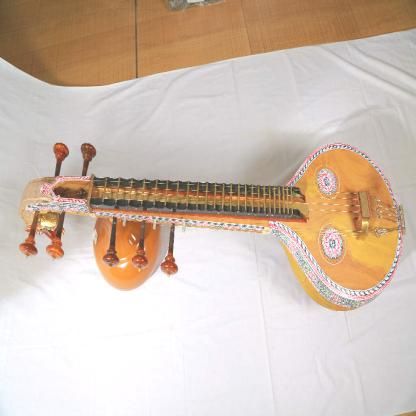Veena: (61, 155, 414, 289)
